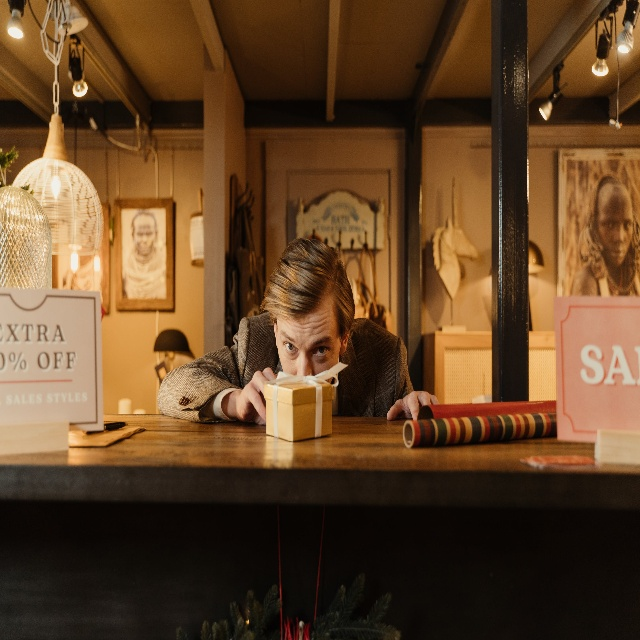Sin_guantes: (237, 366, 275, 423), (387, 390, 441, 425)
